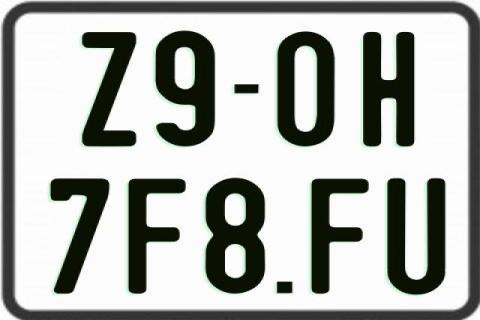0: (49, 177, 114, 295), (202, 176, 266, 294), (155, 30, 217, 148), (275, 31, 337, 146)
F: (311, 177, 372, 292), (128, 177, 186, 291)
H: (361, 29, 416, 149)
U: (386, 176, 446, 296)
Z: (79, 30, 134, 148)
